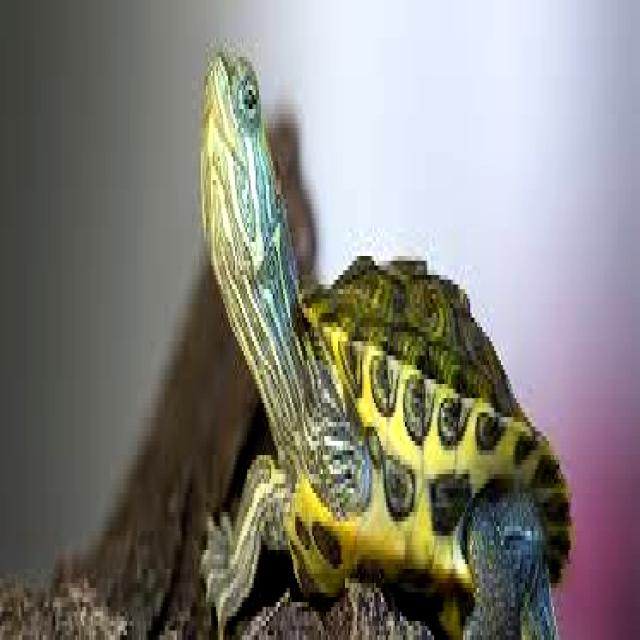Sea turtle: (179, 9, 589, 640)
